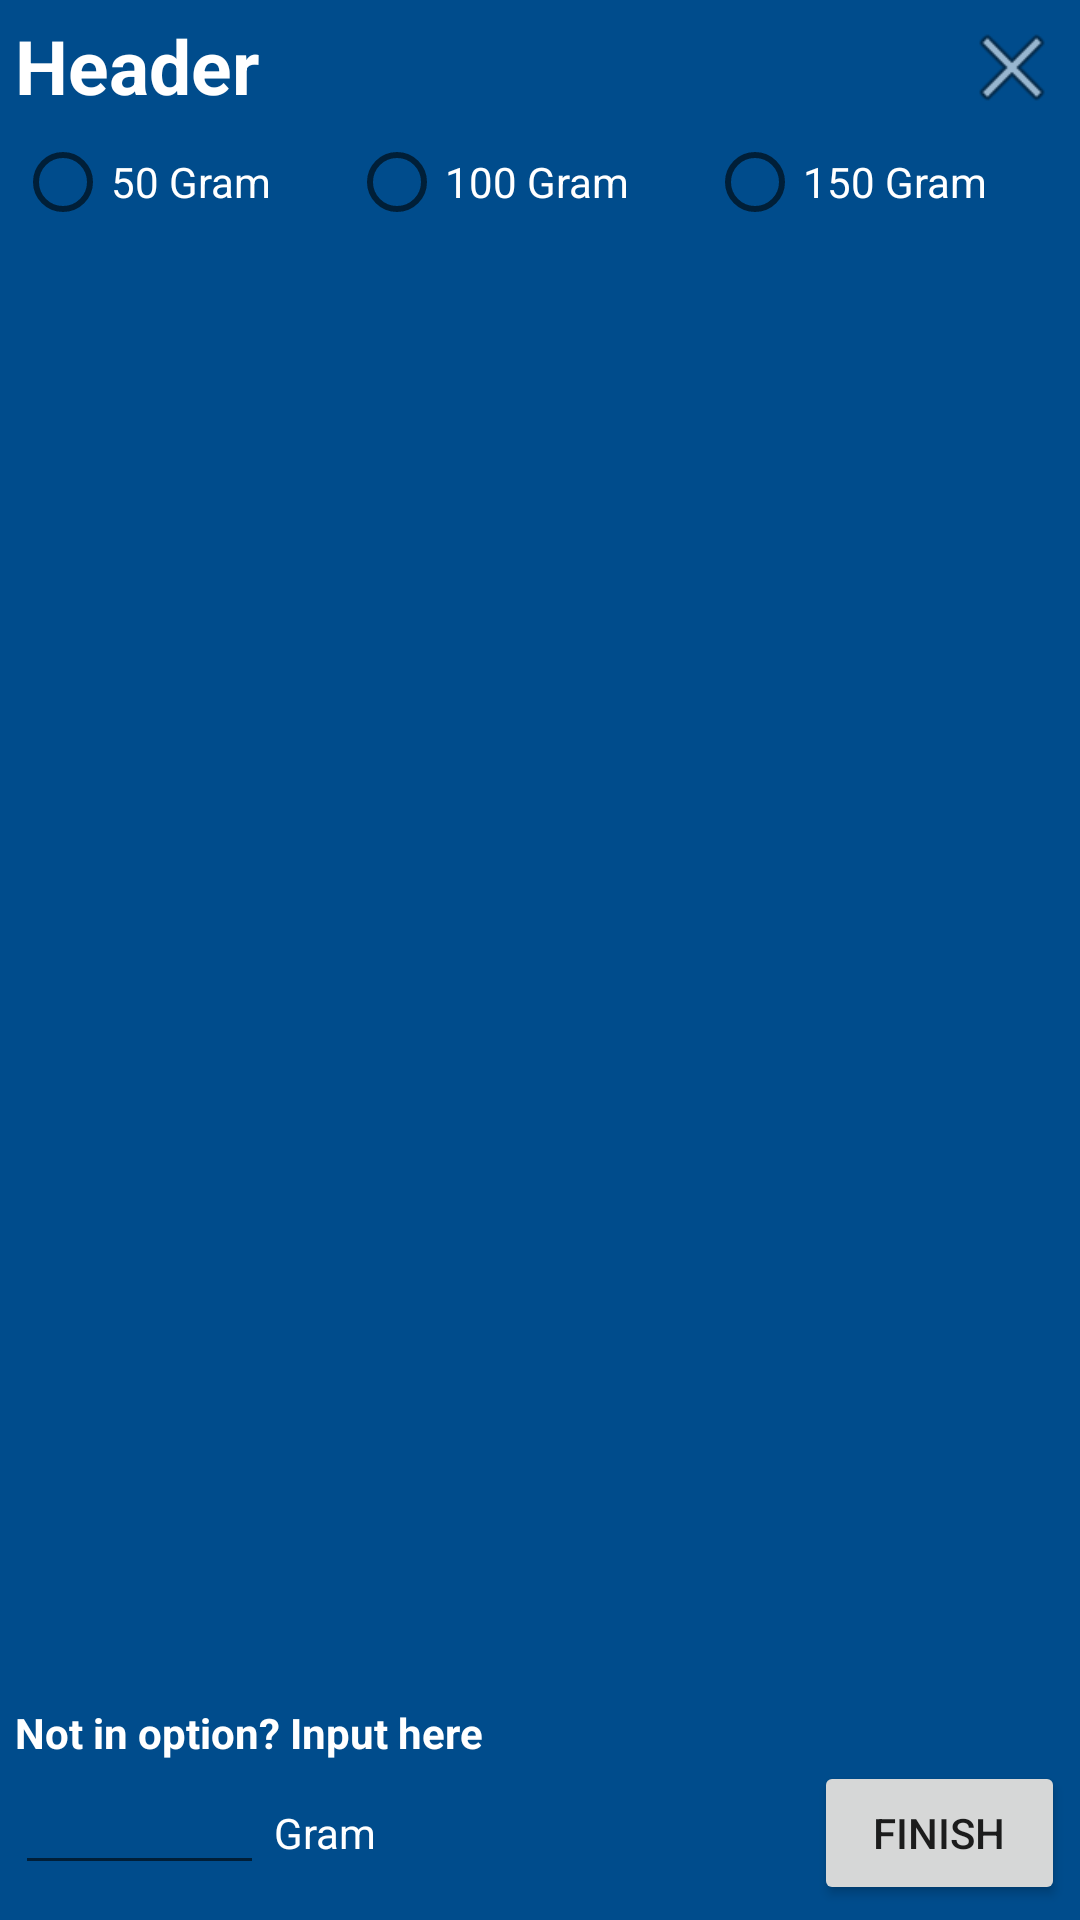

Named icons in this screenshot (1080 x 1920) and their bounding boxes, detection(x1, y1, x2, y2):
close clear cancel: detection(980, 35, 1044, 100)
